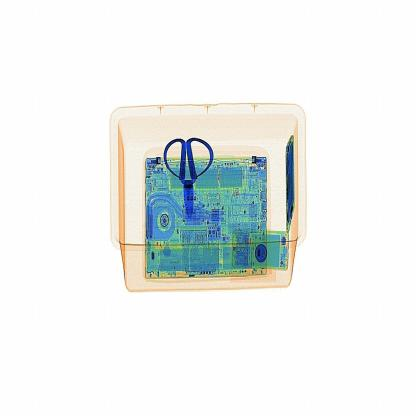gun: (162, 119, 221, 225)
